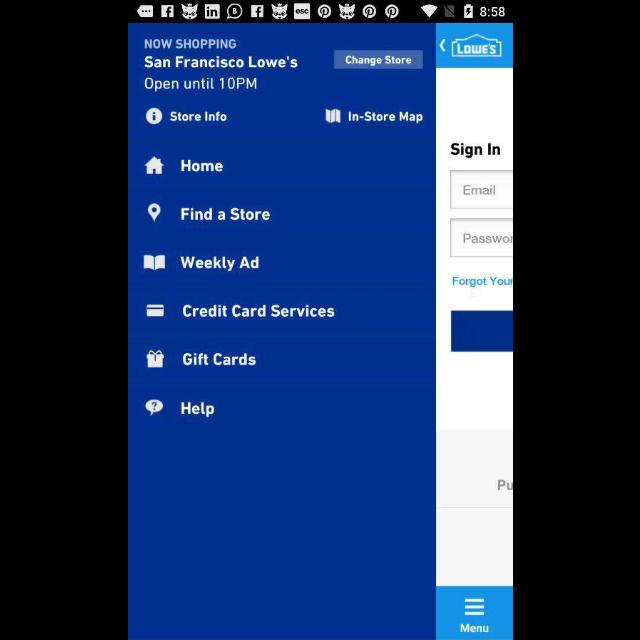icon: (142, 155, 164, 175), (143, 254, 165, 272), (146, 349, 164, 368), (144, 399, 164, 416), (147, 203, 161, 223), (324, 108, 341, 124), (146, 108, 162, 125), (146, 305, 164, 317)
panel: (128, 24, 434, 640)
text: (182, 304, 334, 318), (143, 56, 297, 68), (144, 78, 256, 92), (180, 255, 258, 272), (180, 207, 270, 221), (144, 38, 236, 50), (182, 352, 256, 366), (348, 112, 422, 125), (169, 111, 227, 123), (180, 159, 222, 173), (180, 402, 214, 418)
textbutton: (333, 50, 422, 70)
uppertaskbar: (128, 1, 512, 23)
